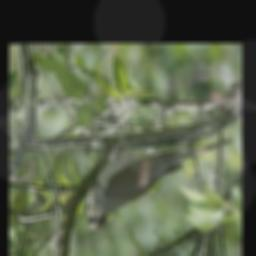Cuckoo: (88, 136, 236, 233)
